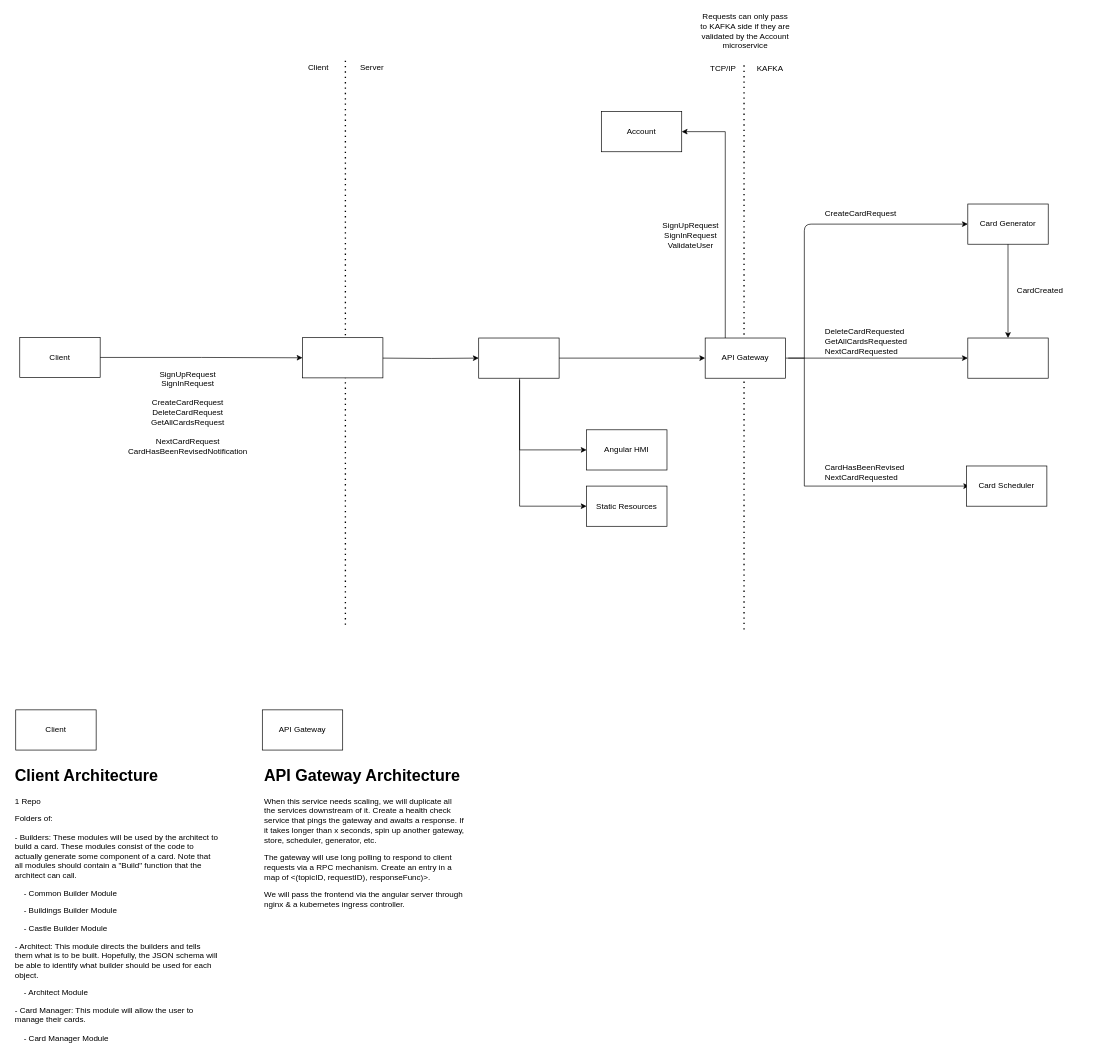
Image size: 1118x1063. Some labels were removed from this diagram. Here are the shapes that lost their labels. From the top down, the centre of each, then its label:
point (342, 357): Kubernetes Load Balancer
point (518, 357): Nginx
point (1007, 357): Card Store
